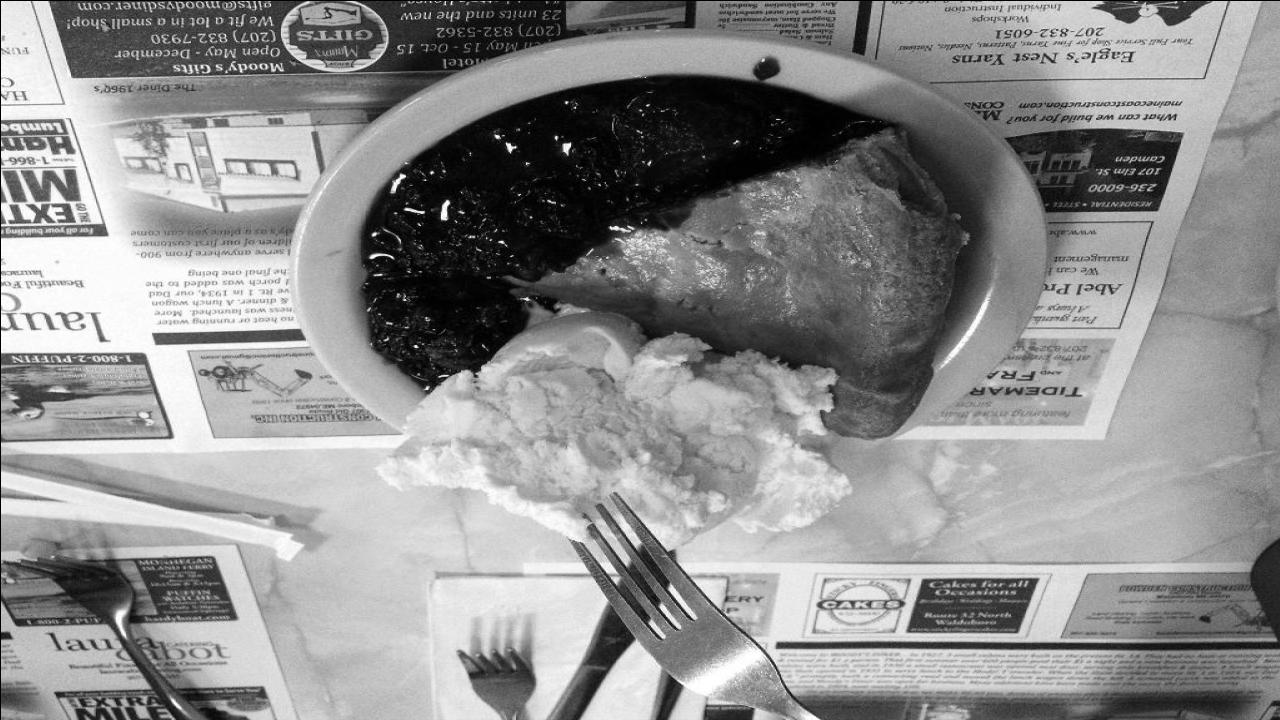chopstick: (6, 470, 300, 554)
fork: (554, 488, 829, 720), (3, 552, 232, 716), (448, 643, 538, 720)
